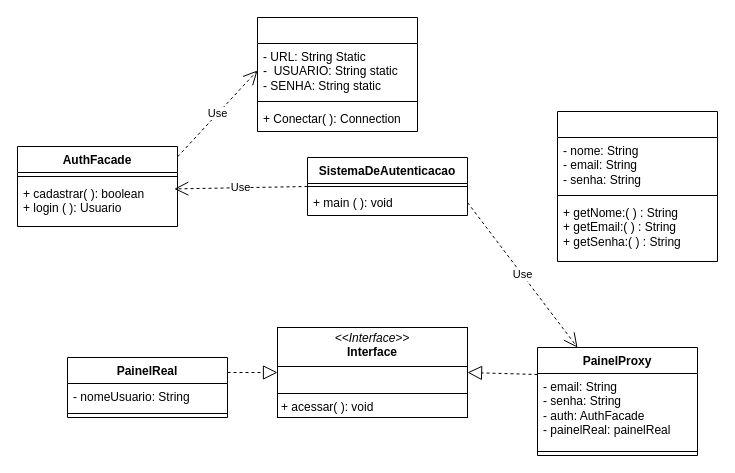
The diagram is 735 pixels wide and 473 high, and some of its shapes have lost their labels. The shapes that lost their labels are listed below. From the top down, each one's box as (x1, y1, x2, y2) in pixels, then its label:
(256, 16, 418, 132): Conexao
(556, 110, 718, 262): Usuario
